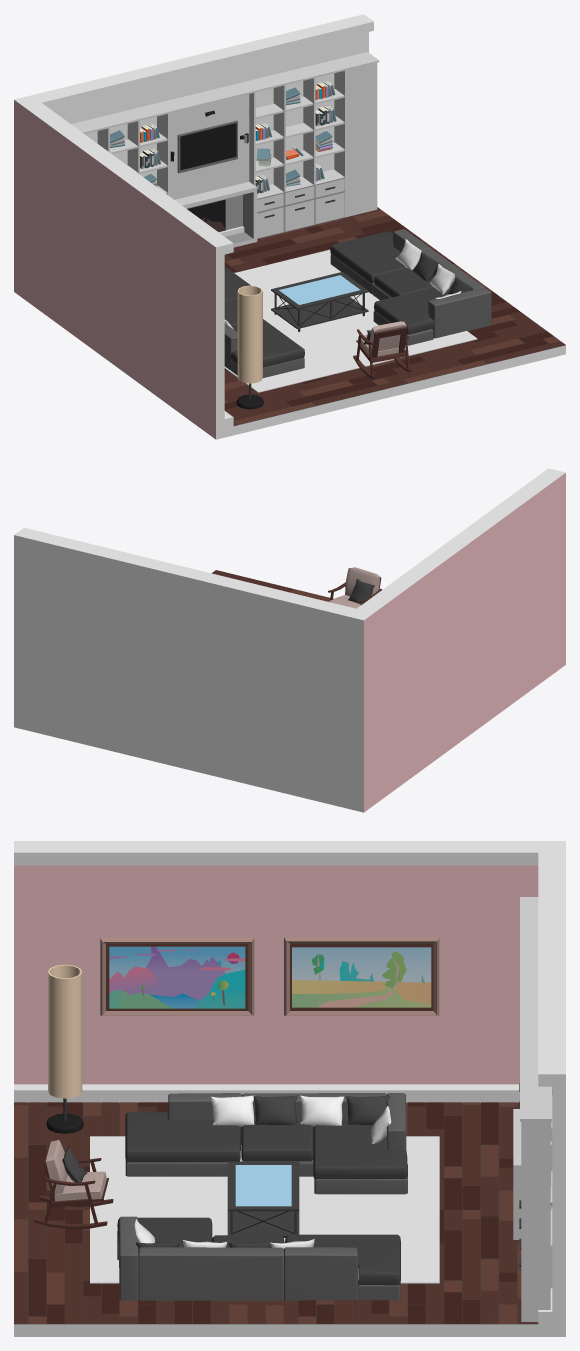
File: room_4.glb
The picture shows the model from 3 angles, top to bottom: view 1: azimuth 30°, elevation 25°; view 2: azimuth 150°, elevation 25°; view 3: azimuth 270°, elevation 25°; orthographic projection. The views are drawn at different scales.
Visible parts, largest first — view 1: Walls_155.002, tv_wall_010.001, Walls_006.144, sofa_028.008, Walls_006.150, floor_016.019, Walls_011.021, Walls_003.062, floor_016.020, floor_016.021, coffee_table_006.004, sofa_028.007 (+3 smaller); view 2: Walls_006.144, Walls_155.002, Walls_003.062, Walls_003.061, lounge_chair_010.002, floor_016.019; view 3: Walls_155.002, sofa_028.008, sofa_028.007, Walls_006.150, floor_016.020, floor_016.019, picture_058.001, picture_057.001, tv_wall_010.001, Walls_011.021, Walls_003.061, floor_016.022 (+11 smaller).
Boxes of the visible parts, x1,y1,x2,y2 form: Walls_155.002: [14, 97, 224, 439]; tv_wall_010.001: [71, 52, 379, 247]; Walls_006.144: [23, 14, 368, 185]; sofa_028.008: [330, 229, 491, 345]; Walls_006.150: [224, 249, 477, 392]; floor_016.019: [367, 272, 565, 386]; Walls_011.021: [224, 210, 565, 437]; Walls_003.062: [37, 18, 373, 109]; floor_016.020: [224, 207, 466, 272]; floor_016.021: [224, 366, 394, 425]; coffee_table_006.004: [271, 272, 368, 331]; sofa_028.007: [224, 268, 304, 377]; Walls_006.144: [14, 531, 359, 810]; Walls_155.002: [355, 470, 565, 812]; Walls_003.062: [19, 527, 355, 612]; Walls_003.061: [352, 468, 556, 614]; lounge_chair_010.002: [328, 567, 382, 608]; floor_016.019: [212, 570, 333, 601]; Walls_155.002: [14, 841, 565, 1084]; sofa_028.008: [117, 1216, 400, 1300]; sofa_028.007: [125, 1093, 407, 1194]; Walls_006.150: [90, 1136, 439, 1283]; floor_016.020: [283, 1210, 538, 1323]; floor_016.019: [14, 1210, 283, 1323]; picture_058.001: [284, 937, 439, 1015]; picture_057.001: [100, 938, 254, 1015]; tv_wall_010.001: [513, 897, 552, 1321]; Walls_011.021: [14, 1103, 552, 1336]; Walls_003.061: [14, 847, 552, 865]; floor_016.022: [406, 1102, 519, 1209].
Bounding box in the file's own units: 8 × 4.2 × 8.
Materials: 1 (1 with a texture image).
